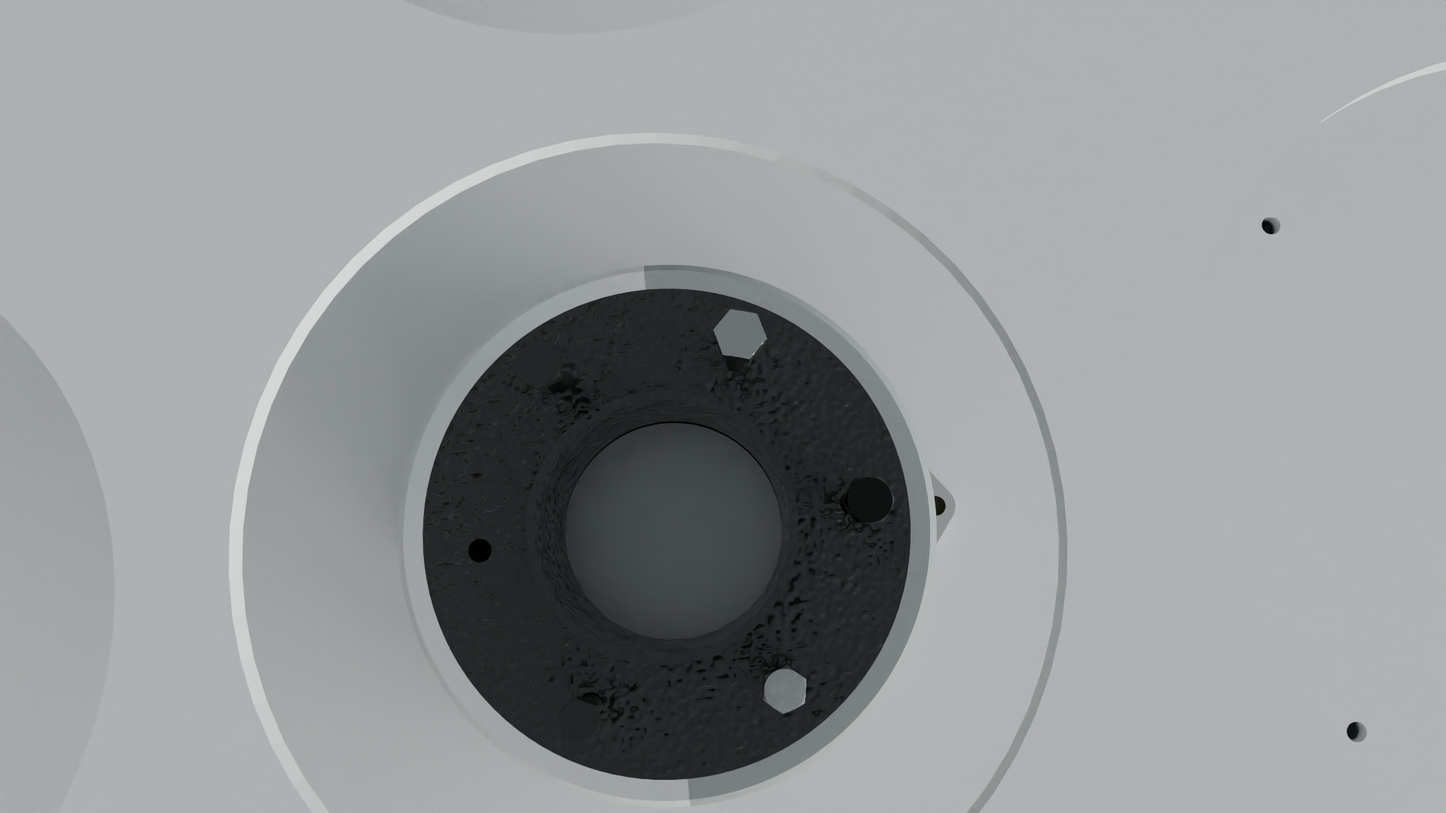bolt: (713, 309, 767, 360), (844, 477, 895, 523), (516, 340, 560, 389), (763, 665, 807, 714), (558, 699, 600, 744)
